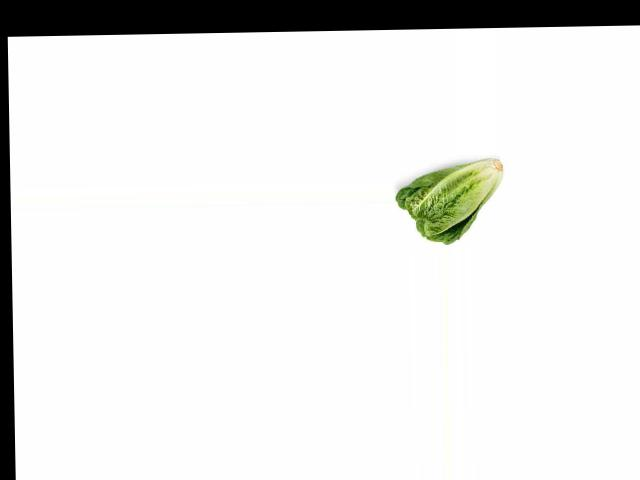lettuce: (395, 156, 506, 244)
